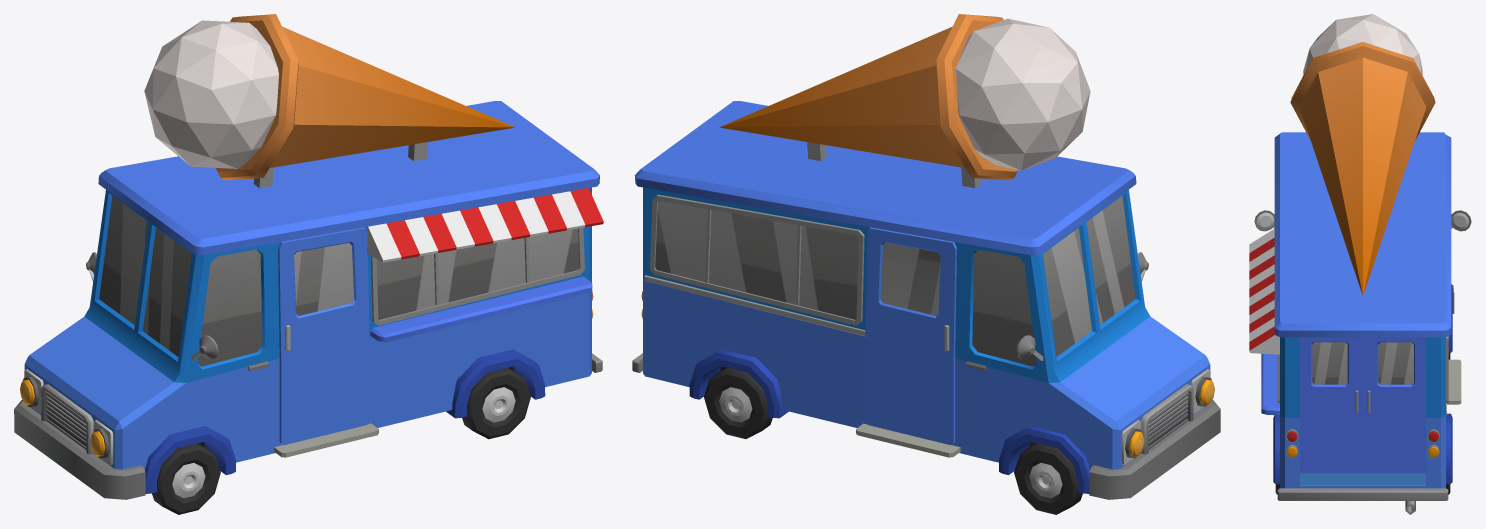
File: IceTruck_2_B.gltf
3 views of the same model, side by side, from view 1: azimuth 30°, elevation 25°; view 2: azimuth 150°, elevation 25°; view 3: azimuth 270°, elevation 25° (orthographic). The views are drawn at different scales.
Visible parts, largest first — view 1: IceTruck_2_B, RL, FL; view 2: IceTruck_2_B, FR, RR; view 3: IceTruck_2_B.
Part boxes in pixels (x1,y1,x2,y2): IceTruck_2_B: (14,14,603,499); RL: (462,367,530,439); FL: (152,443,220,514); IceTruck_2_B: (632,14,1220,499); FR: (1014,443,1082,514); RR: (704,368,772,438); IceTruck_2_B: (1249,14,1471,514).
Bounding box in the file's own units: 4.16 × 3.43 × 1.84.
Materials: 4 (4 with a texture image).
